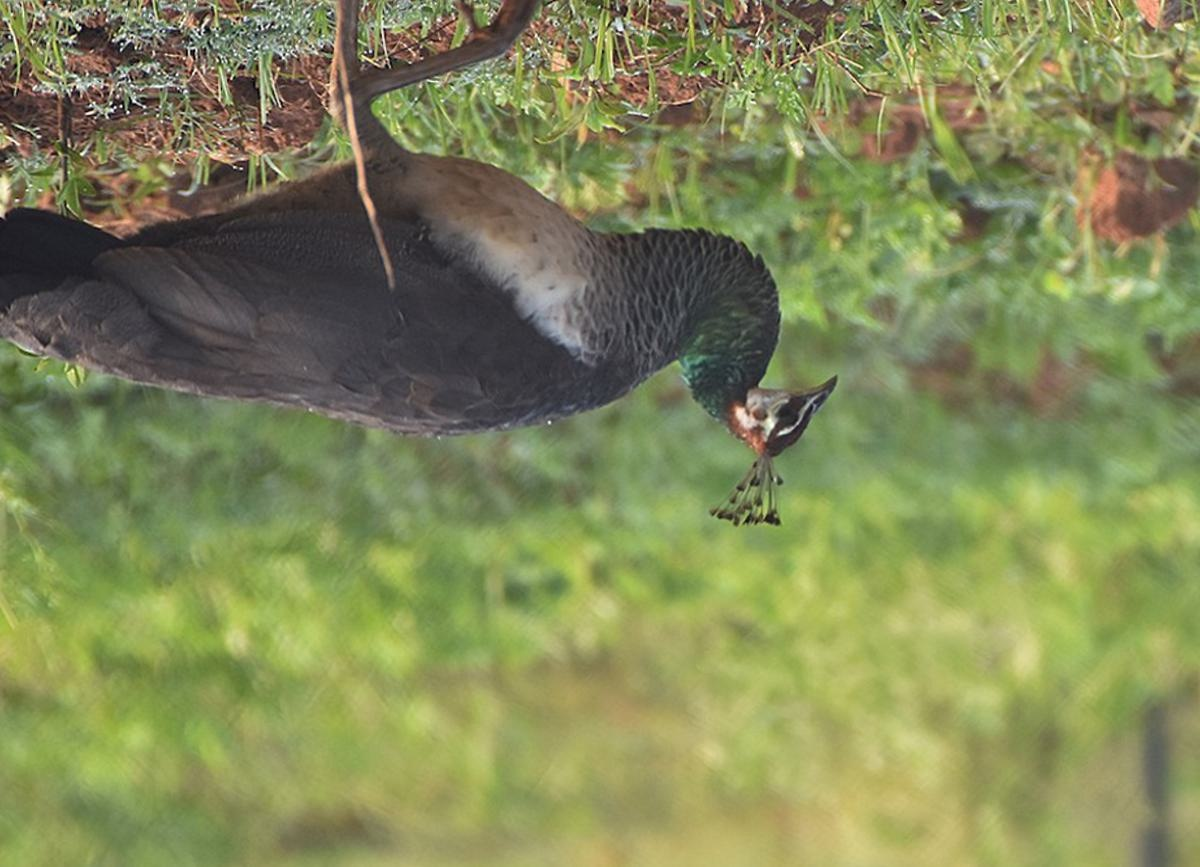peacock: (1, 37, 858, 588)
